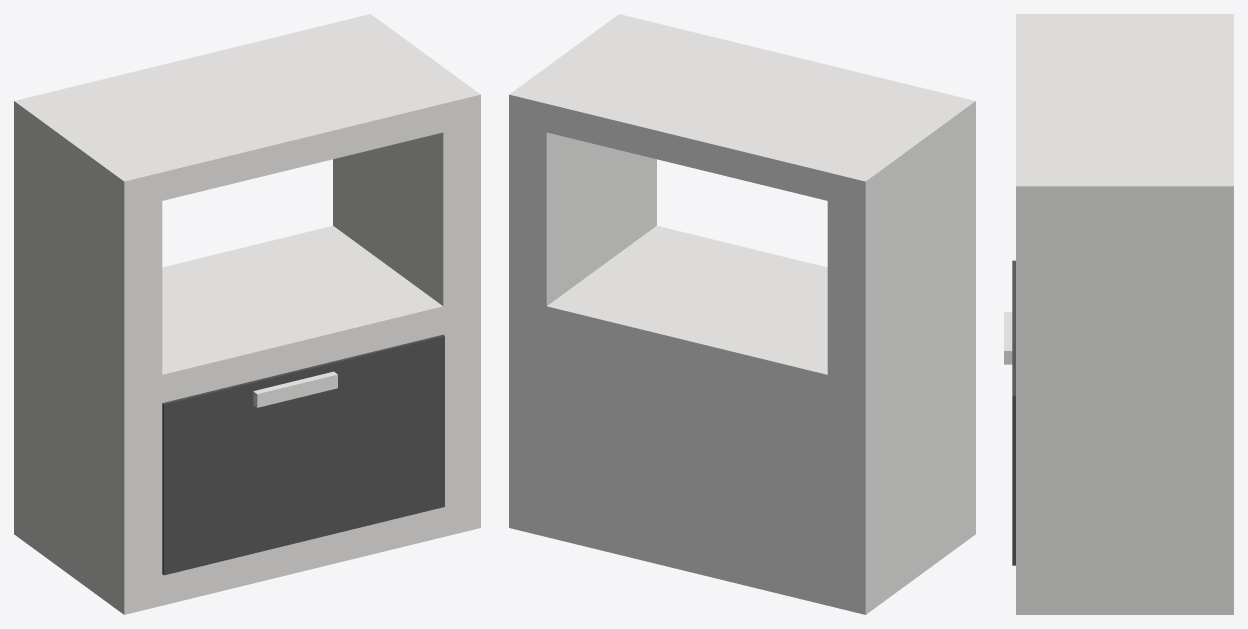
File: Cabinet_1.fbx
3 renders of one model, left to right at view 1: azimuth 30°, elevation 25°; view 2: azimuth 150°, elevation 25°; view 3: azimuth 270°, elevation 25°, orthographic.
Parts seen in each view (by area): view 1: Cabinet_1; view 2: Cabinet_1; view 3: Cabinet_1.
Part boxes in pixels (bbox=[...]): Cabinet_1: bbox=[14, 14, 480, 614]; Cabinet_1: bbox=[509, 14, 975, 614]; Cabinet_1: bbox=[1004, 14, 1233, 614].
Bounding box in the file's own units: 84.21 × 47.48 × 97.8.
